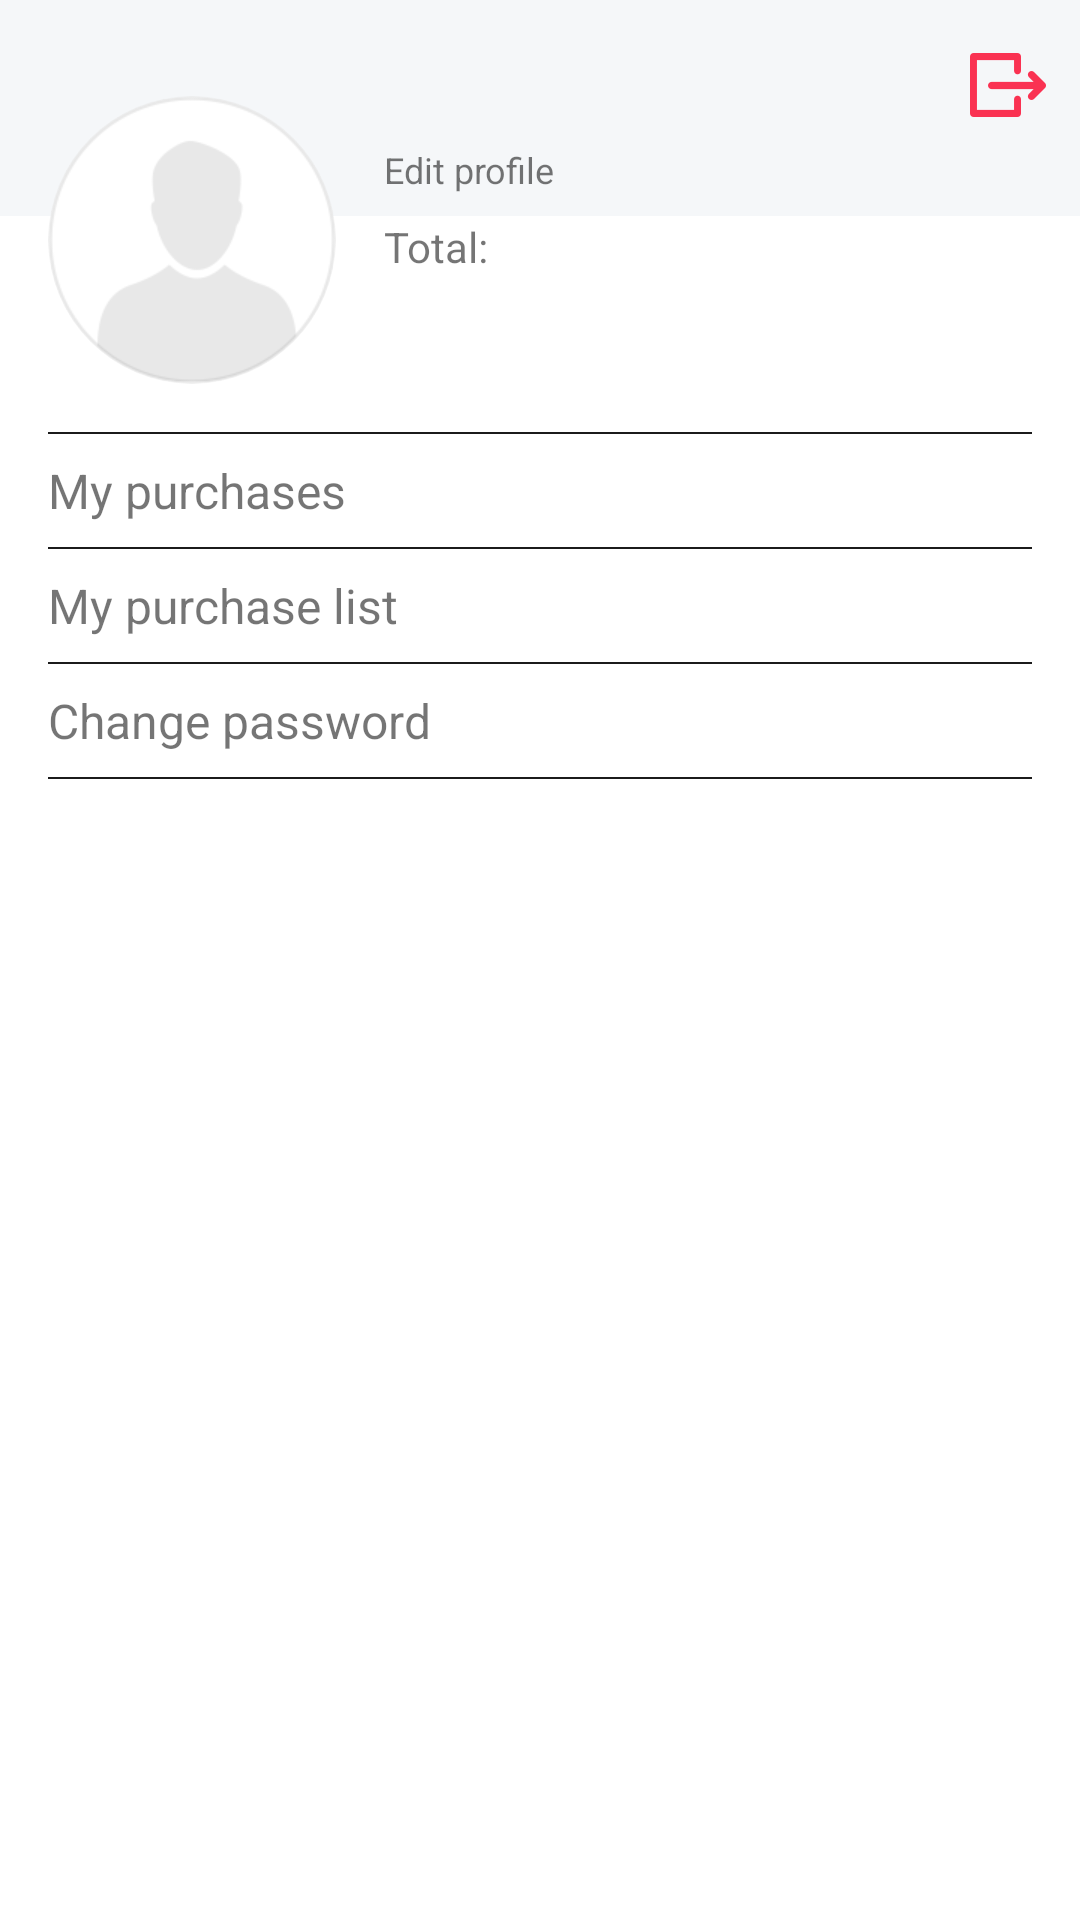

Screen size 1080*1920. Icon name, then its box in pixels as bbox=[x1, y1, x2, y2]:
log out: bbox=[970, 53, 1046, 117]
